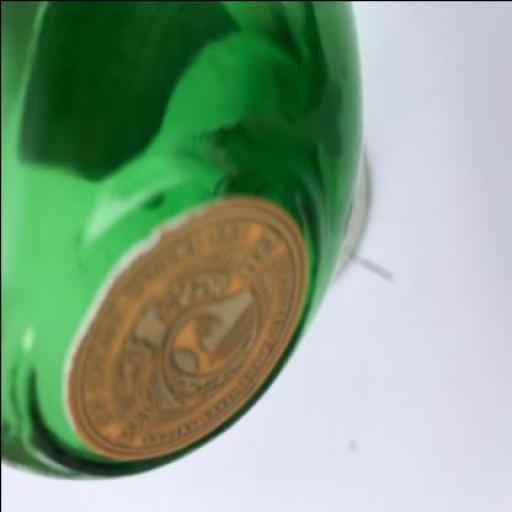glass: (1, 0, 368, 482)
